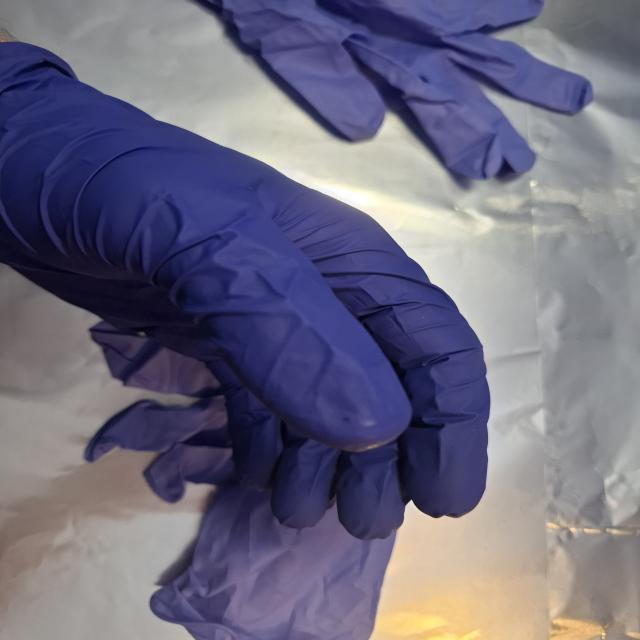glove_on: (0, 40, 496, 542)
